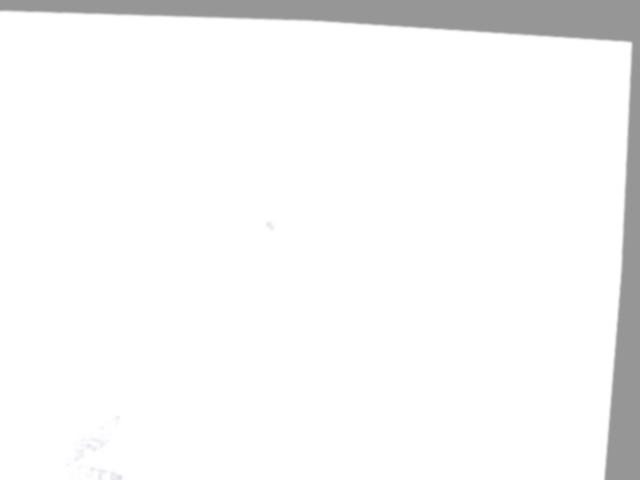iha: (234, 197, 311, 238)
